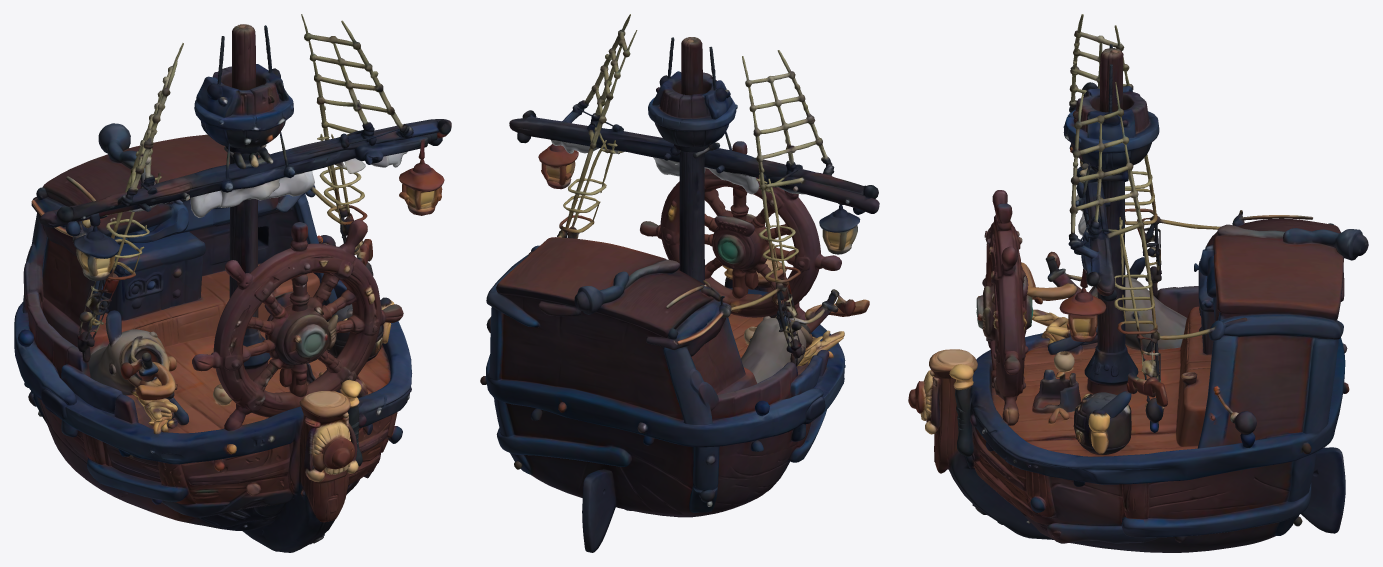
The model's file is barco-cubierta.glb.
3 views of the same model, side by side, from view 1: azimuth 30°, elevation 25°; view 2: azimuth 150°, elevation 25°; view 3: azimuth 270°, elevation 25° (orthographic). The views are drawn at different scales.
Bounding box in the file's own units: 0.8523 × 0.9785 × 0.8405.
Materials: 1 (1 with a texture image).
